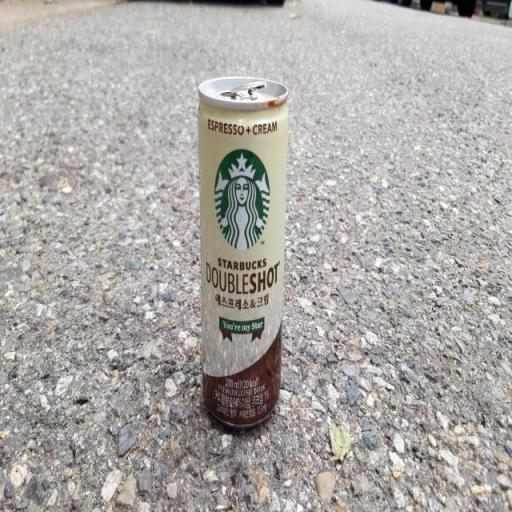metal: (193, 50, 296, 444)
